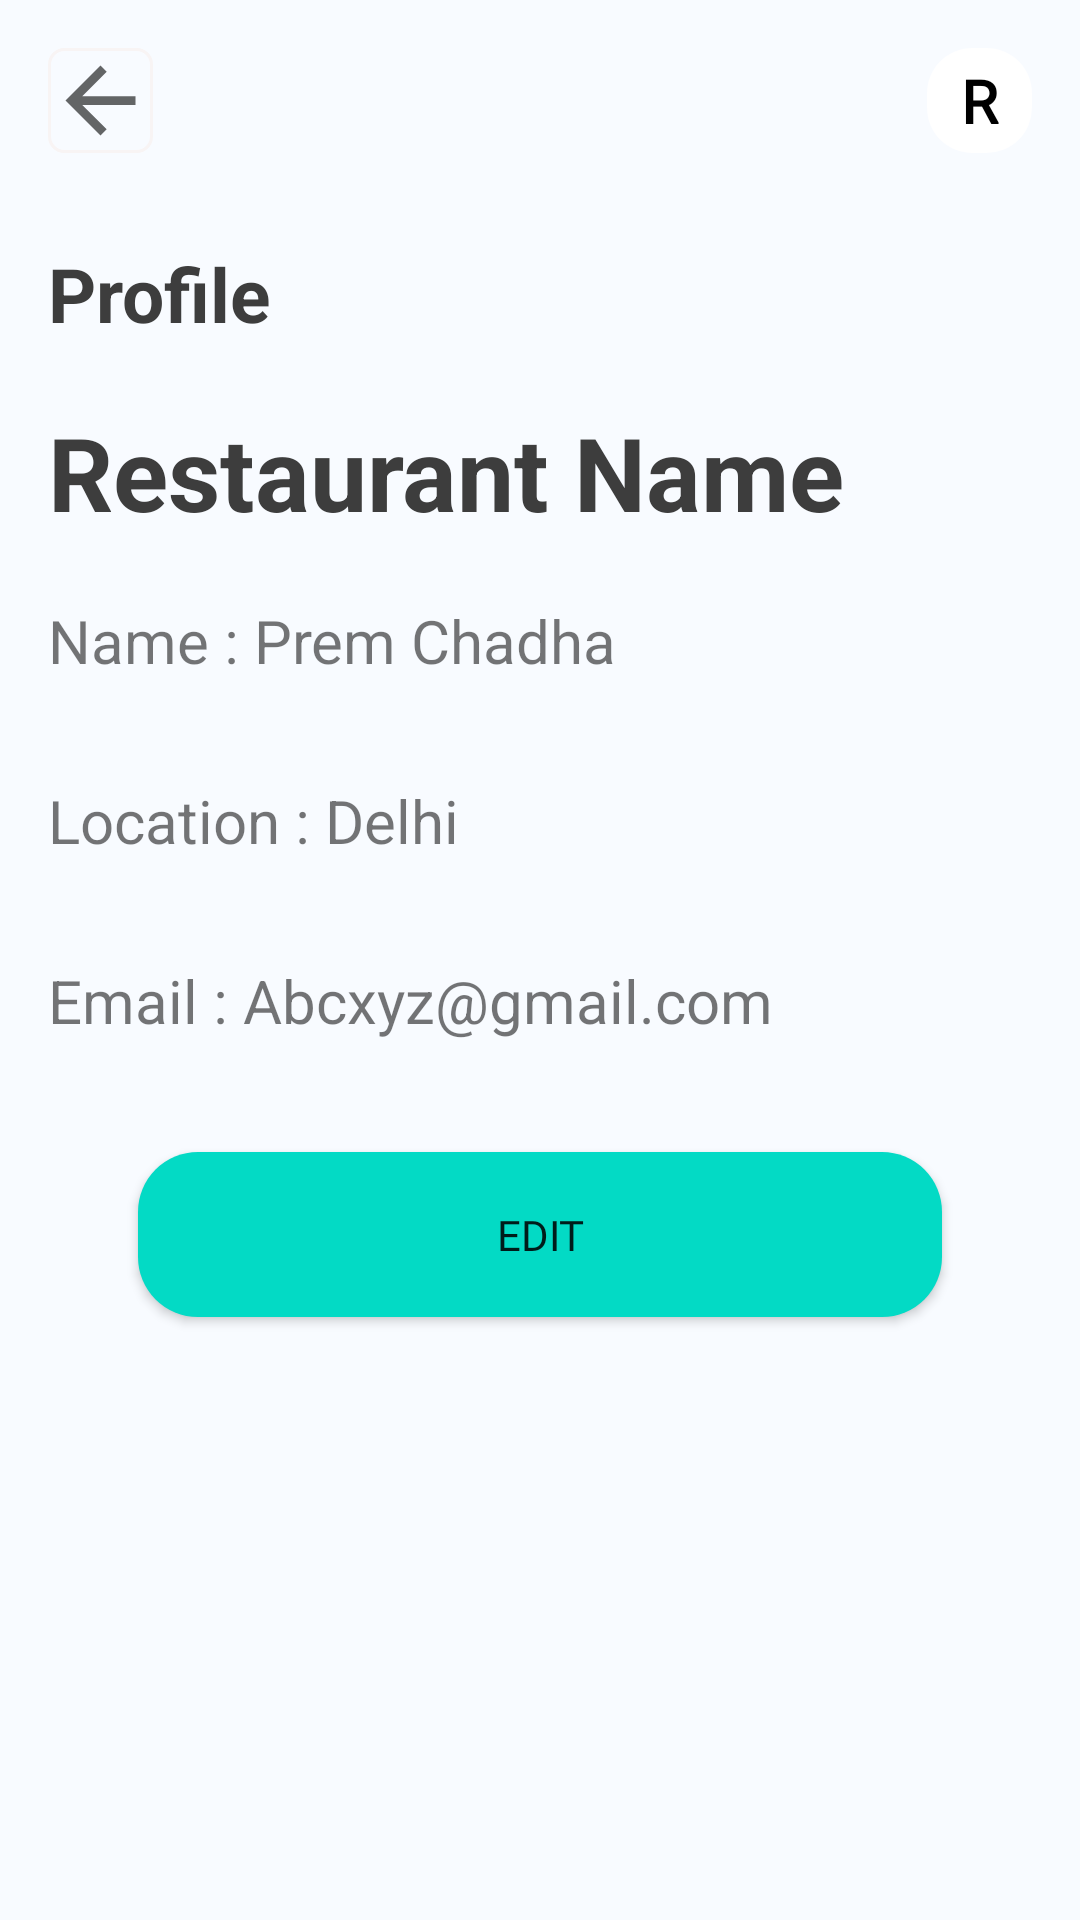

Icons on this 1080w x 1920h Android screen, each with its box as (x1, y1, x2, y2):
arrow back: (65, 65, 136, 136)
